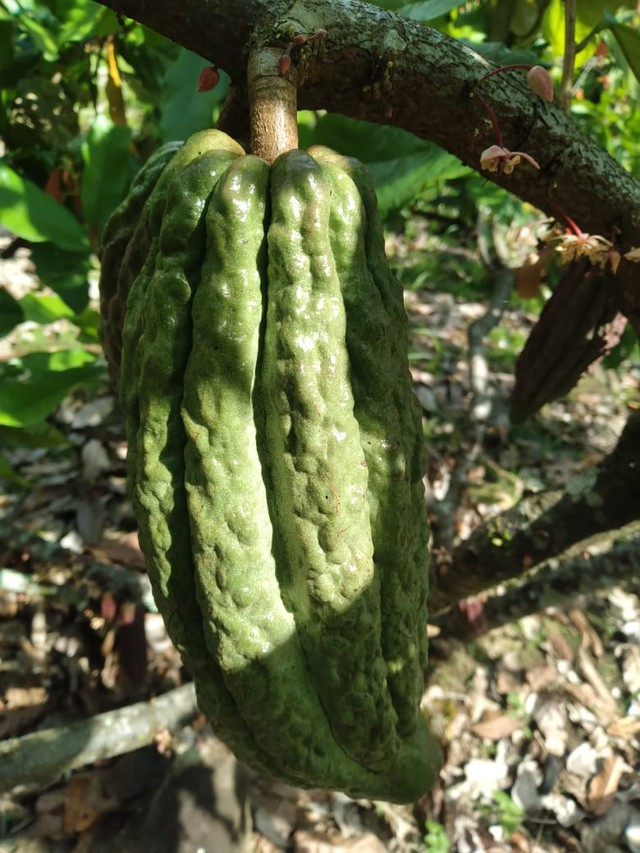Health: (83, 90, 486, 823)
